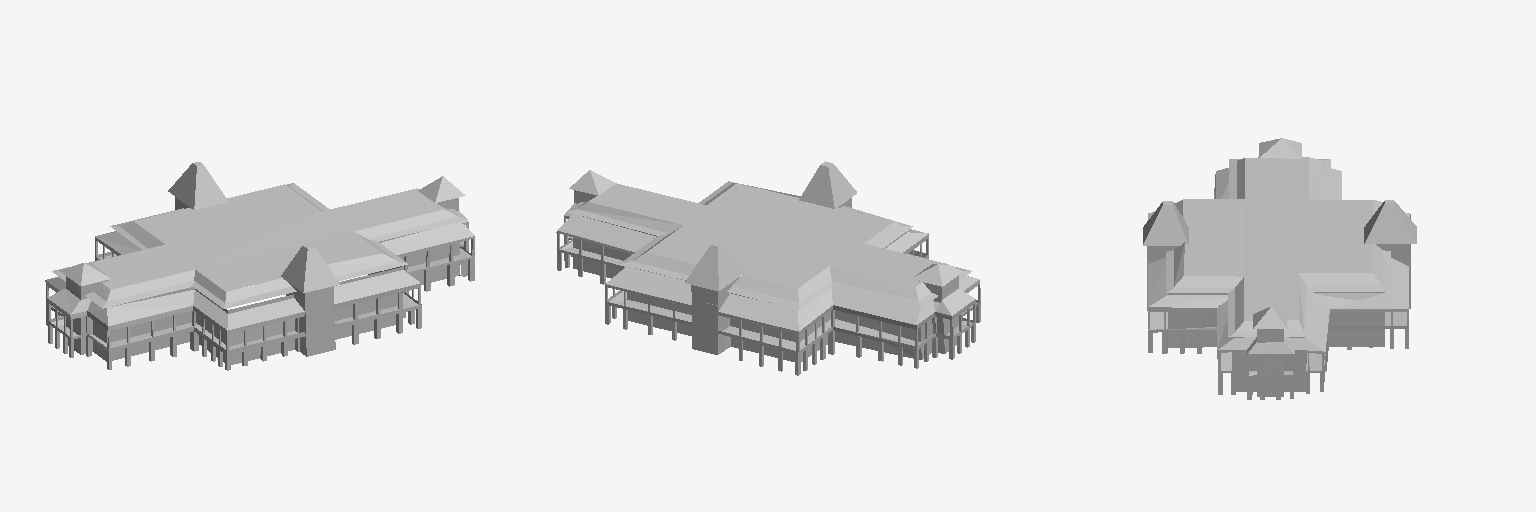
The model's file is old_main.obj.
3 renders of one model, left to right at view 1: azimuth 30°, elevation 25°; view 2: azimuth 150°, elevation 25°; view 3: azimuth 270°, elevation 25°, orthographic.
Visible parts, largest first — view 1: Mesh1_Model, Mesh3_Model, Mesh4_Model; view 2: Mesh1_Model, Mesh3_Model, Mesh4_Model; view 3: Mesh1_Model, Mesh3_Model, Mesh4_Model.
Part boxes in pixels (x1,y1,x2,y2): Mesh1_Model: (45, 162, 474, 370); Mesh3_Model: (60, 263, 112, 285); Mesh4_Model: (418, 176, 465, 202); Mesh1_Model: (556, 161, 980, 375); Mesh3_Model: (911, 264, 963, 286); Mesh4_Model: (569, 170, 615, 195); Mesh1_Model: (1143, 157, 1416, 399); Mesh3_Model: (1259, 138, 1301, 158); Mesh4_Model: (1253, 307, 1287, 328).
Bounding box in the file's own units: 877 × 225 × 530.